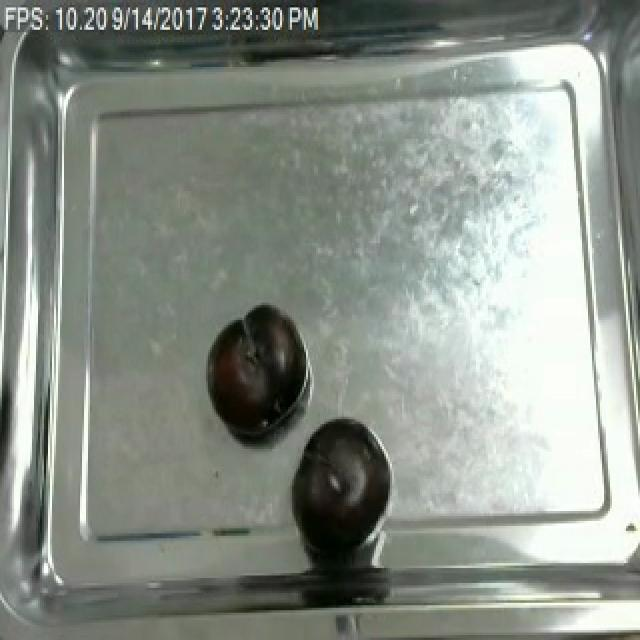Fruit: (206, 300, 304, 432), (290, 414, 384, 541)
